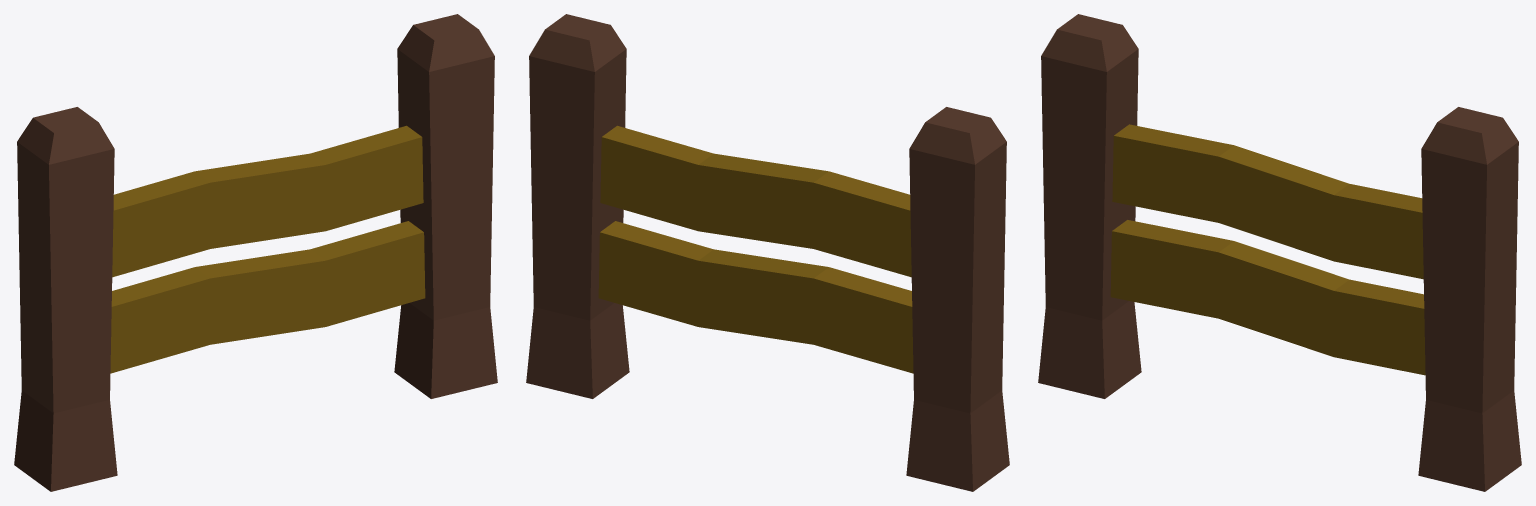
File: fence.fbx
3 views of the same model, side by side, from view 1: azimuth 30°, elevation 25°; view 2: azimuth 150°, elevation 25°; view 3: azimuth 330°, elevation 25° (orthographic).
Visible parts, largest first — view 1: Cube; view 2: Cube; view 3: Cube.
Boxes of the visible parts, <box> form: Cube: <box>14,14,497,491</box>; Cube: <box>526,14,1009,491</box>; Cube: <box>1038,14,1521,491</box>.
Bounding box in the file's own units: 64.8 × 48.54 × 9.23.
